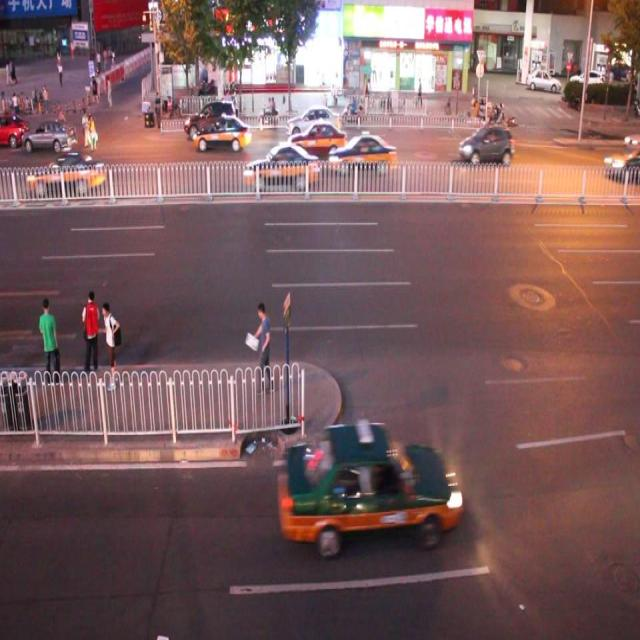car: (278, 420, 460, 557), (245, 144, 318, 190), (327, 132, 398, 176), (28, 156, 105, 194), (458, 121, 512, 169), (192, 116, 252, 152), (182, 100, 238, 138), (287, 122, 346, 158), (284, 104, 340, 137), (21, 120, 77, 152), (604, 140, 640, 182), (1, 110, 28, 146), (621, 118, 640, 152)
